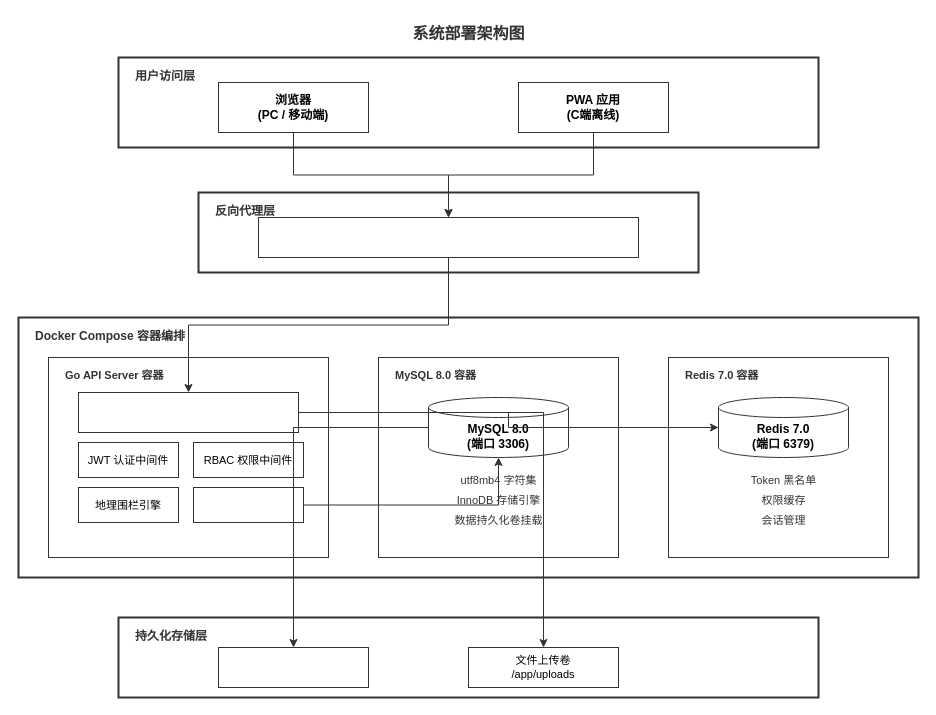
Image size: 936x715. Some labels were removed from this diagram. The centre of each missing label's shape, as x and y in pixels:
"Gin Web 框架 (端口 8080)" goes at point (188, 412).
"GORM ORM" goes at point (248, 504).
"MySQL 数据卷 /var/lib/mysql" goes at point (293, 667).
"Nginx 静态资源托管 / API 反向代理 / HTTPS 终止" goes at point (448, 237).
